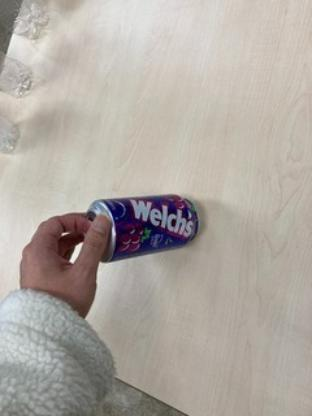Can: (84, 189, 202, 270)
